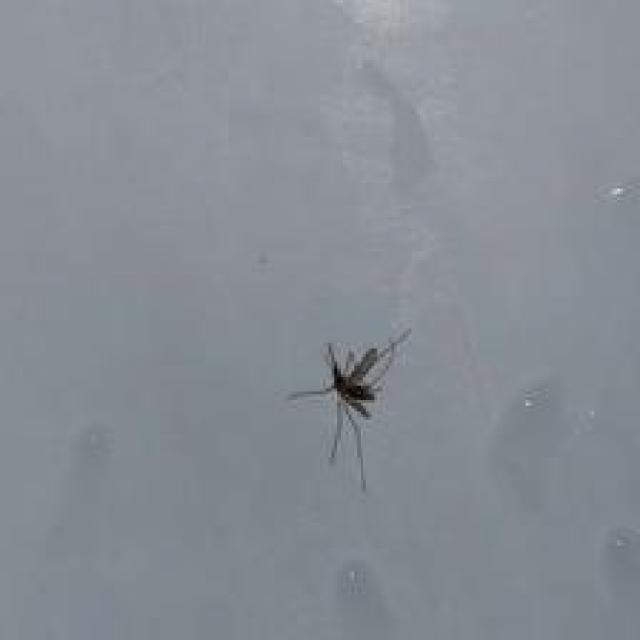Culex: (286, 324, 411, 490)
